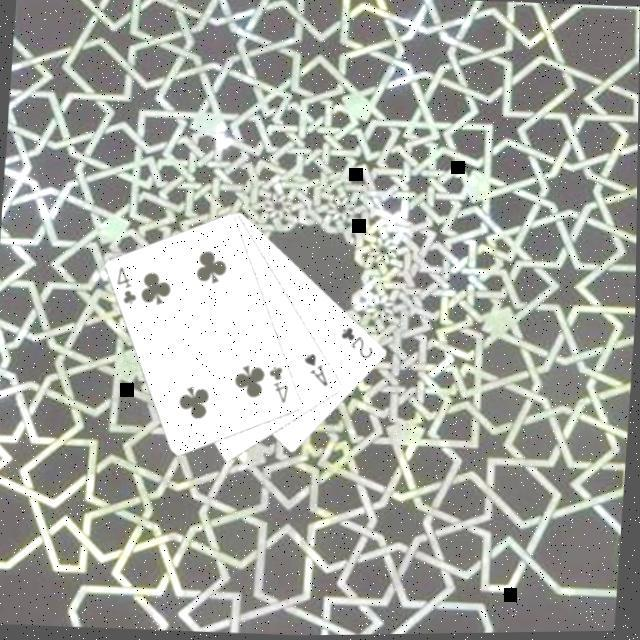2C: (336, 322, 377, 362)
4C: (112, 262, 143, 307), (264, 362, 294, 407)
AS: (299, 349, 333, 391)
